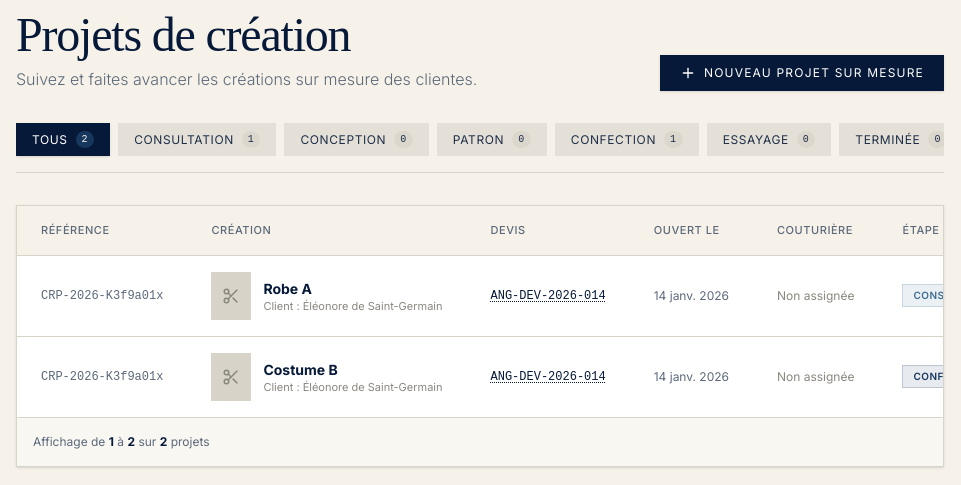
Scenario: AdminCreationProjectsPage › filters projects when filter chip is clicked
Expected: the link "Robe A" is shown, [263,280,312,296]
Expected: the link "Costume B" is shown, [263,360,338,378]
# Click Confection filter chip
What coordinates should you click on to do the following:
click the tab "Confection 1"
I would click on:
 (627, 140)
Its box is [555,123,699,156].
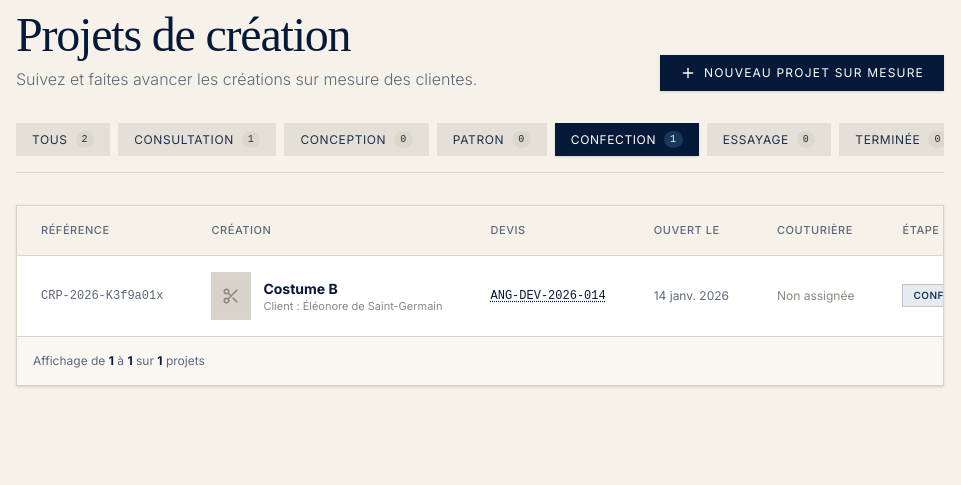
Expected: the link "Costume B" is shown, [263,280,338,296]
Expected: the link "Robe A" is gone
